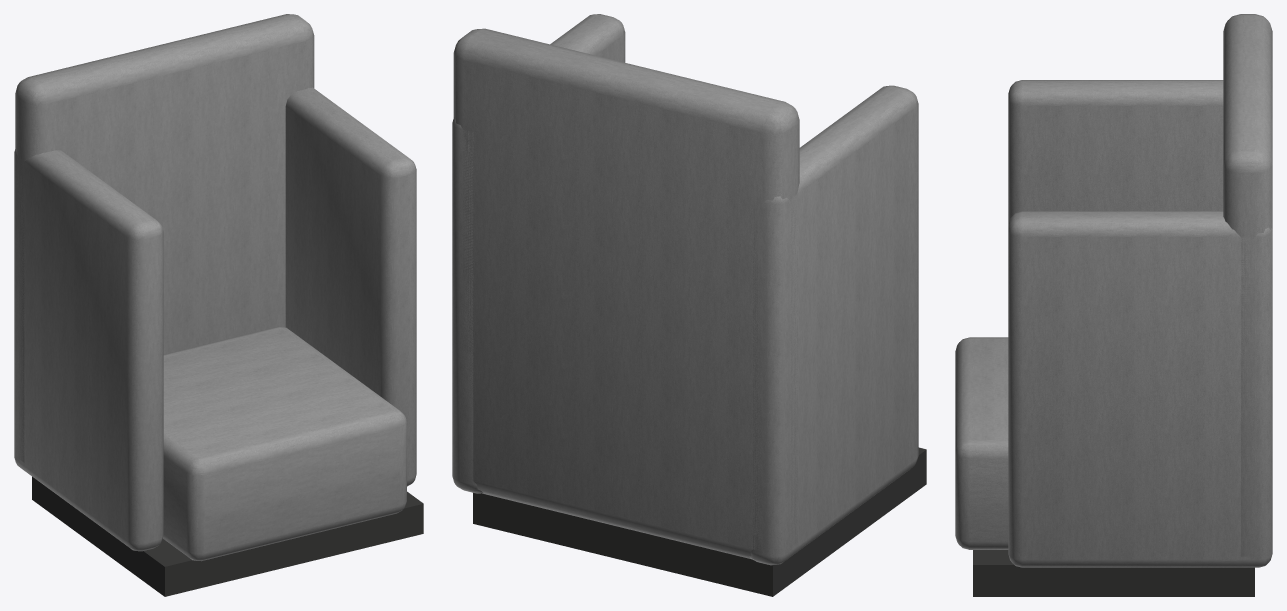
Rendered from architecture.privacy-chair-pod.glb.
3 renders of one model, left to right at view 1: azimuth 30°, elevation 25°; view 2: azimuth 150°, elevation 25°; view 3: azimuth 270°, elevation 25°, orthographic. The views are drawn at different scales.
Parts seen in each view (by area): view 1: architecture.privacy-chair-pod.001; view 2: architecture.privacy-chair-pod.001; view 3: architecture.privacy-chair-pod.001.
Boxes of the visible parts, box(x1,y1,x2,y2) form: architecture.privacy-chair-pod.001: box(14, 14, 423, 596); architecture.privacy-chair-pod.001: box(452, 14, 926, 596); architecture.privacy-chair-pod.001: box(955, 14, 1272, 596).
Bounding box in the file's own units: 1 × 1.4 × 0.9.
Materials: 2 (1 with a texture image).
